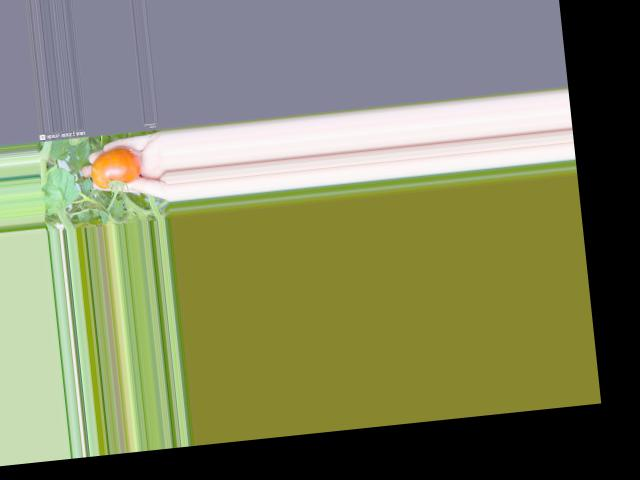tomato: (89, 145, 144, 189)
